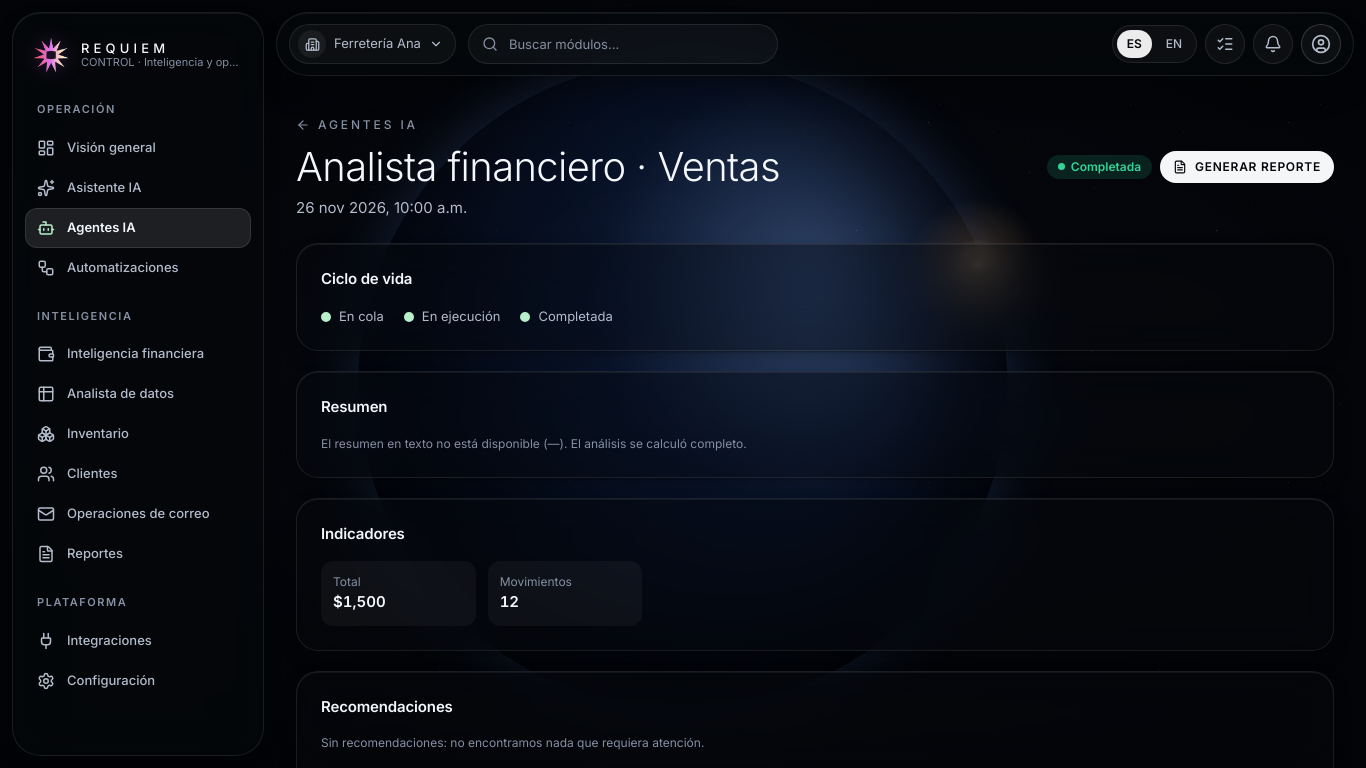
Reports › generates a report from a completed execution
Click the button "Generar reporte". click: coordinates (1247, 167)
box: [1160, 151, 1334, 183]
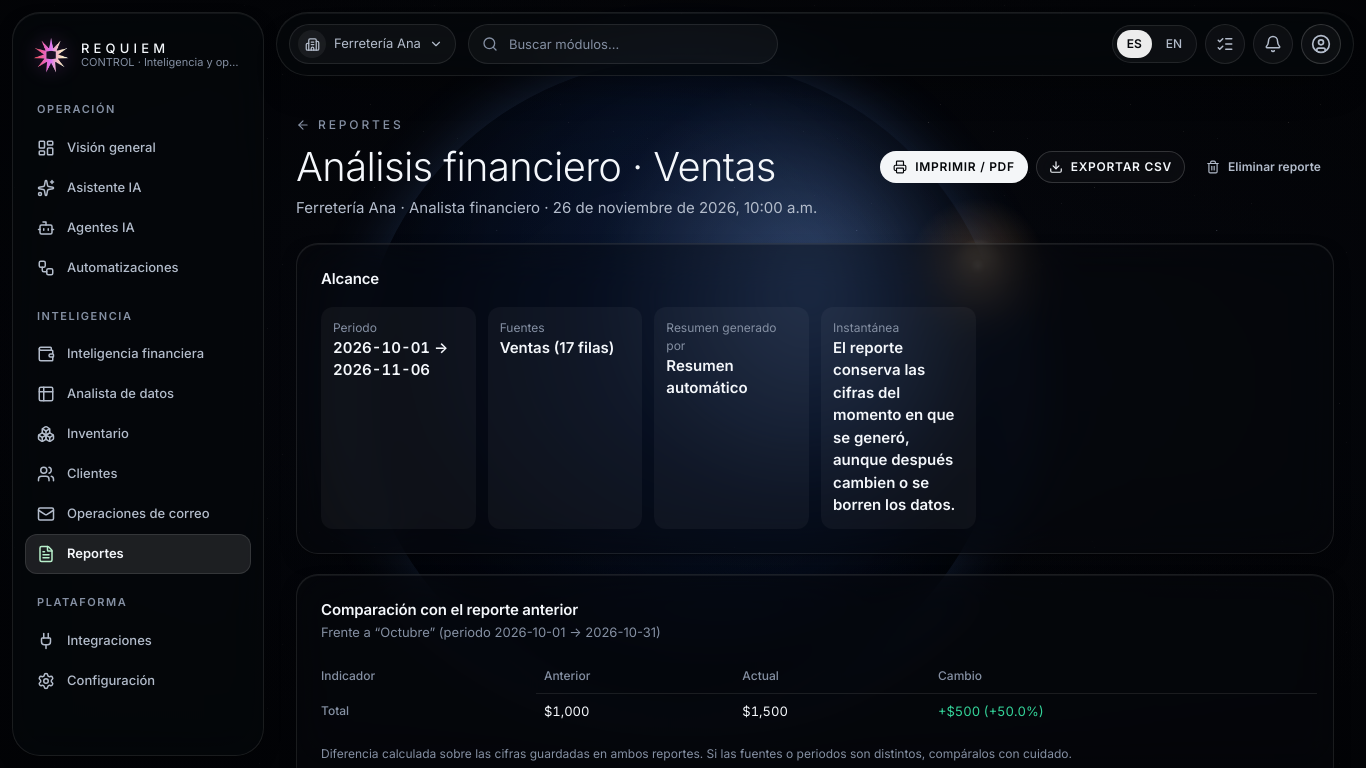
Expected: the heading "Análisis financiero · Ventas" is shown, [296, 145, 776, 189]
